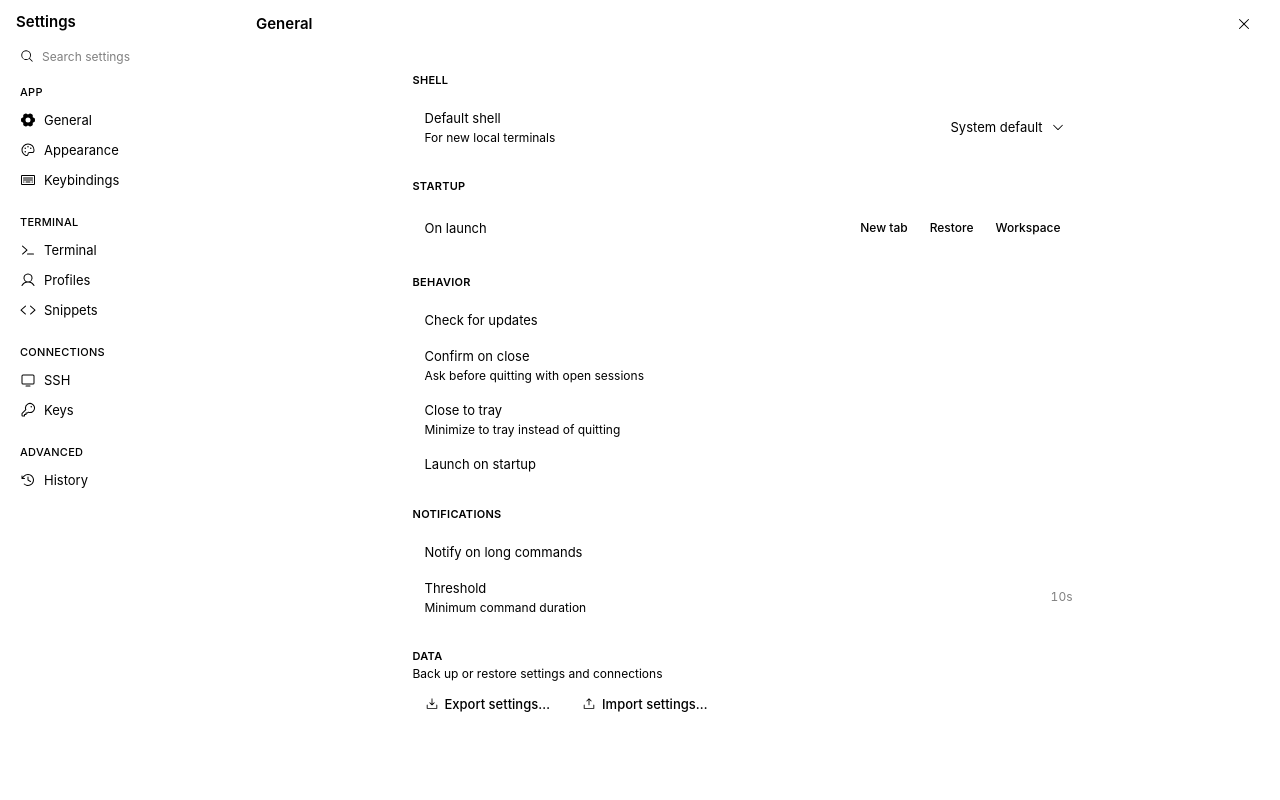
Test: SettingsView › says so when nothing matches
The image size is (1280, 800).
Type "zzzz" into the search field labelled "Search settings".
click(127, 56); type("zzzz")  # box [42, 44, 212, 68]
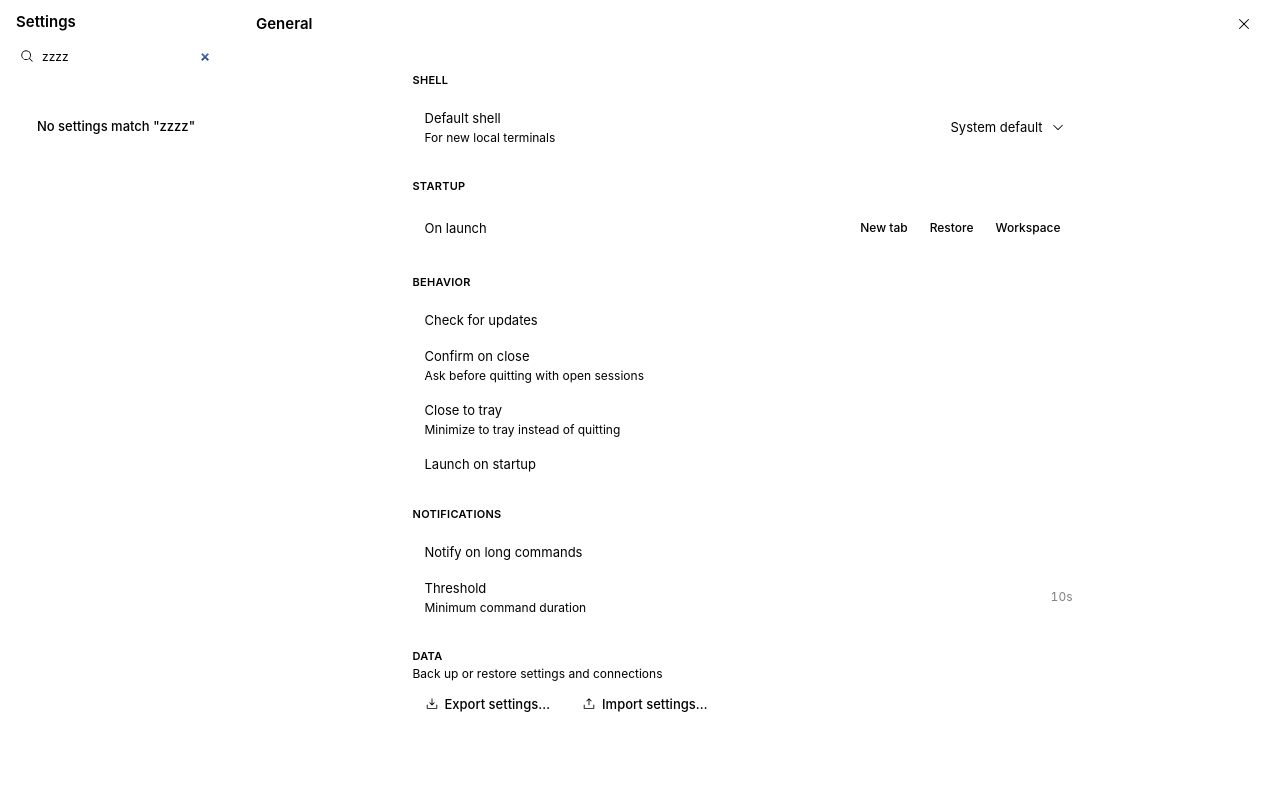
Expected: the text "No settings match \"zzzz\"" is shown, [37, 116, 195, 136]
